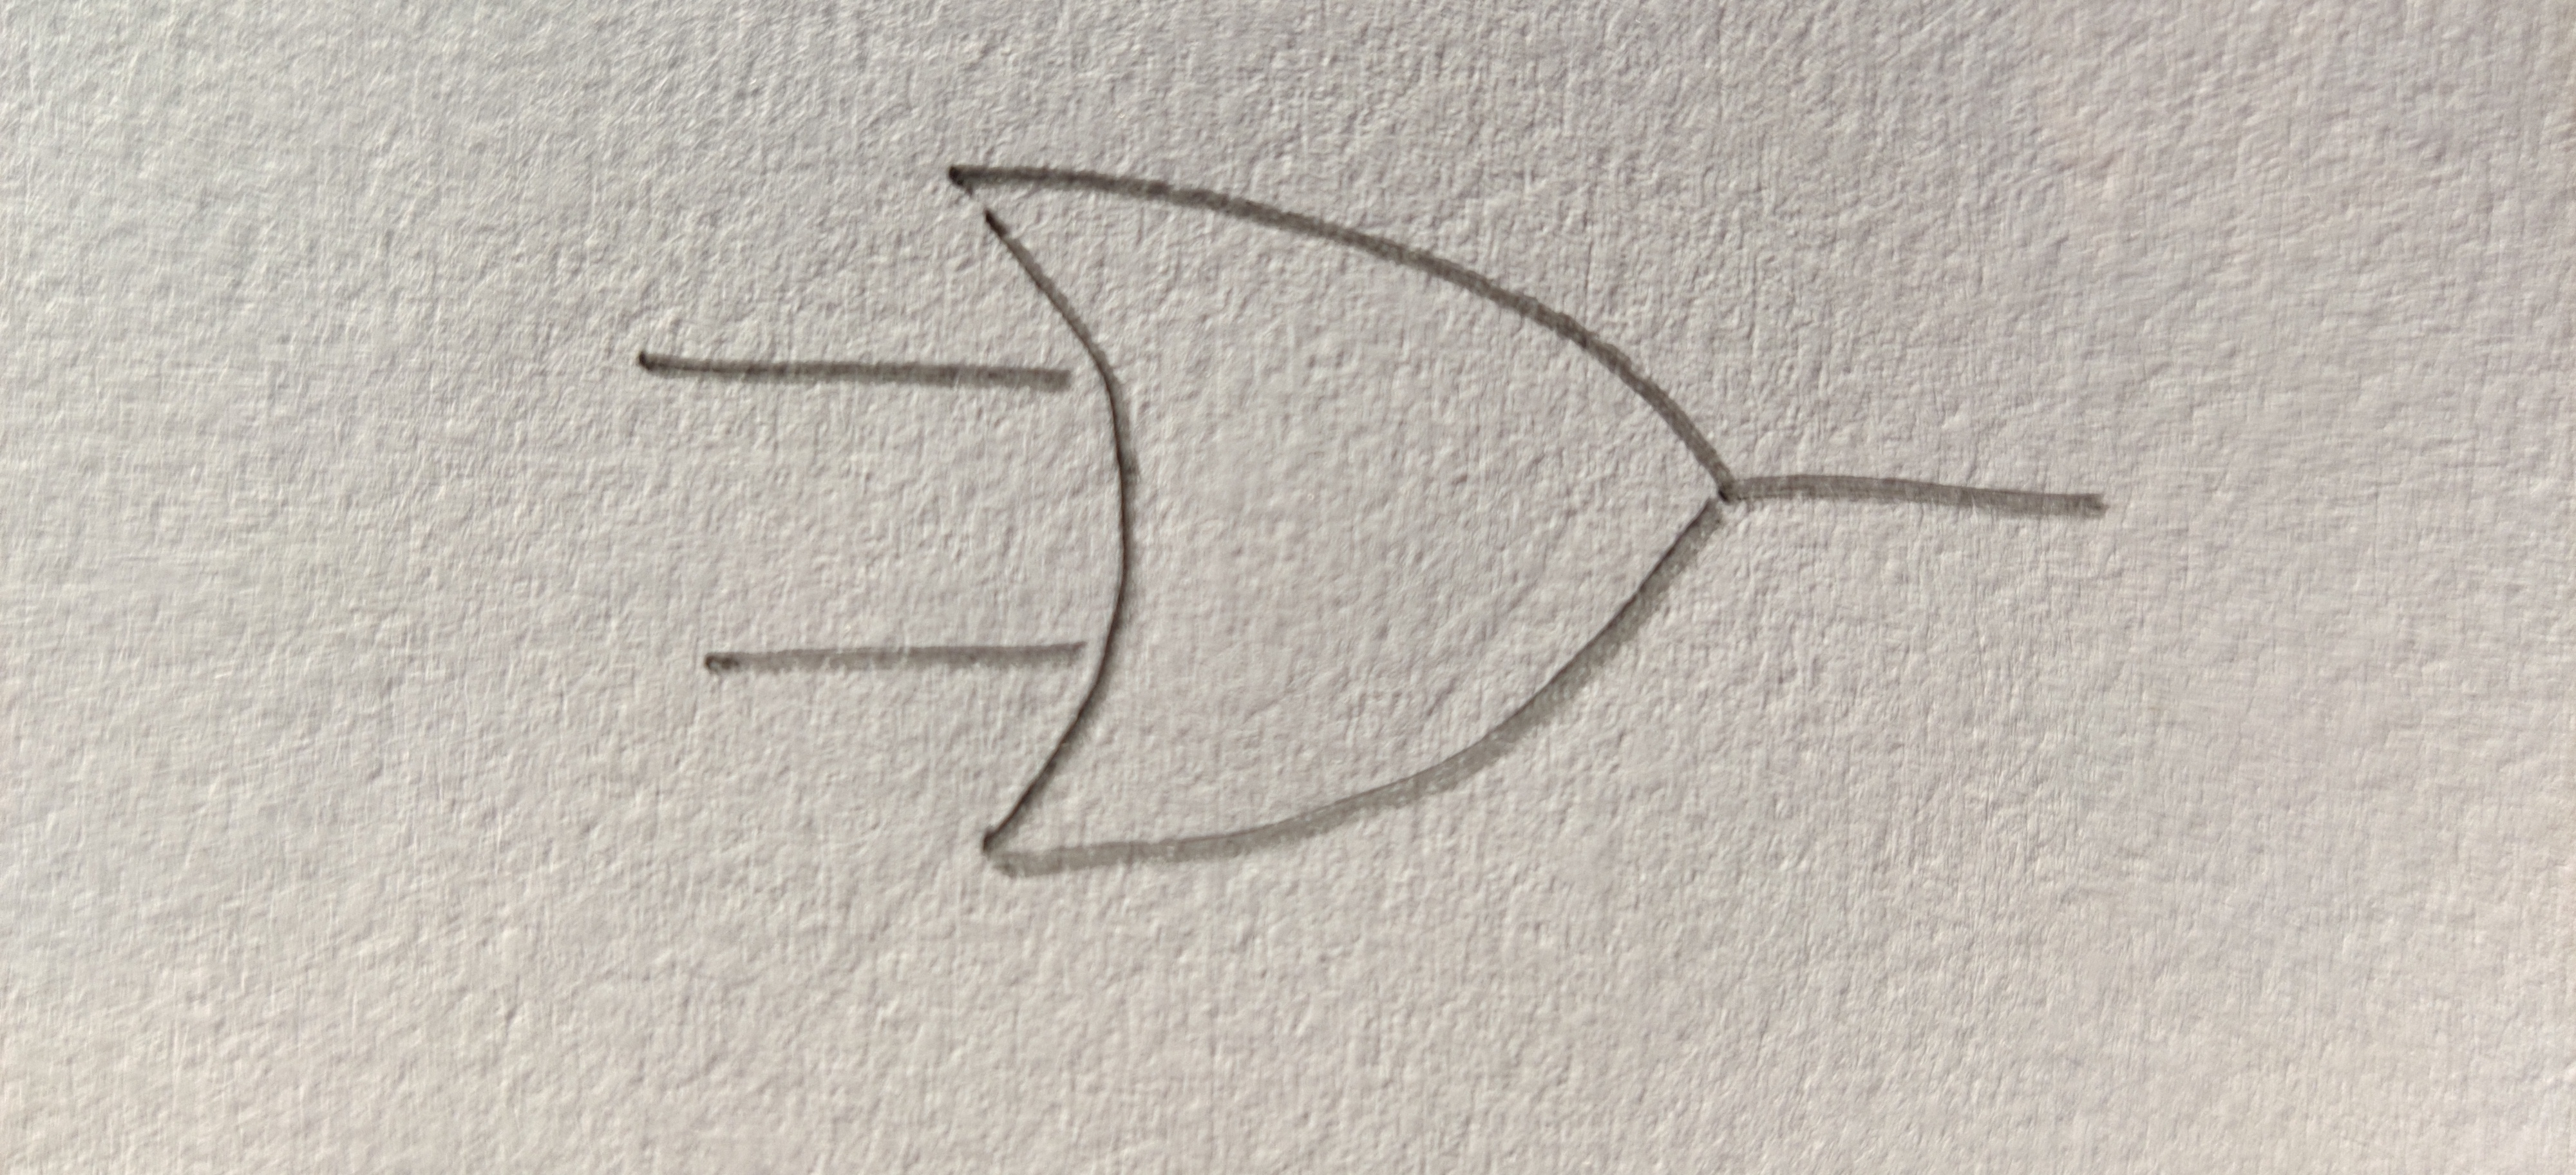or: (945, 168, 1730, 873)
